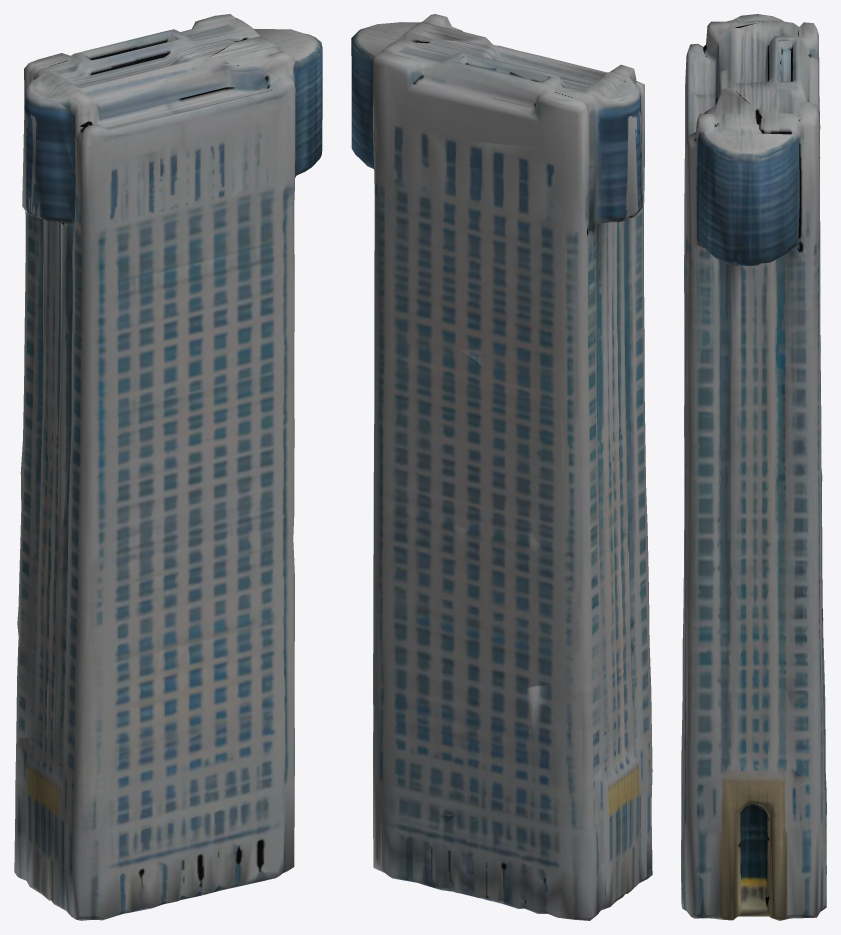
The model's file is lasalle_120_n.glb.
3 renders of one model, left to right at view 1: azimuth 30°, elevation 25°; view 2: azimuth 150°, elevation 25°; view 3: azimuth 270°, elevation 25°, orthographic.
Visible parts, largest first — view 1: lasalle_120_n; view 2: lasalle_120_n; view 3: lasalle_120_n.
Boxes of the visible parts, x1,y1,x2,y2 form: lasalle_120_n: (14, 14, 322, 920); lasalle_120_n: (351, 14, 652, 920); lasalle_120_n: (681, 14, 826, 920).
Size of the model in its own units: 56 by 153 by 25.
Materials: 1 (1 with a texture image).
